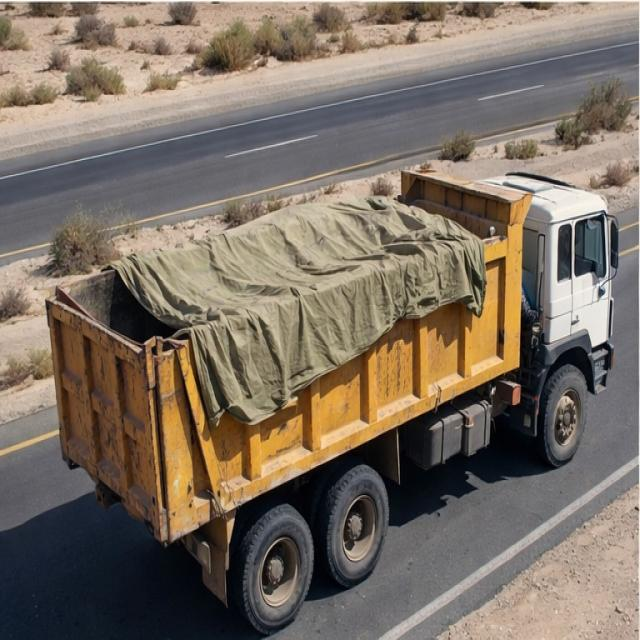Box: (52, 168, 526, 375)
Truck: (43, 152, 634, 602)
